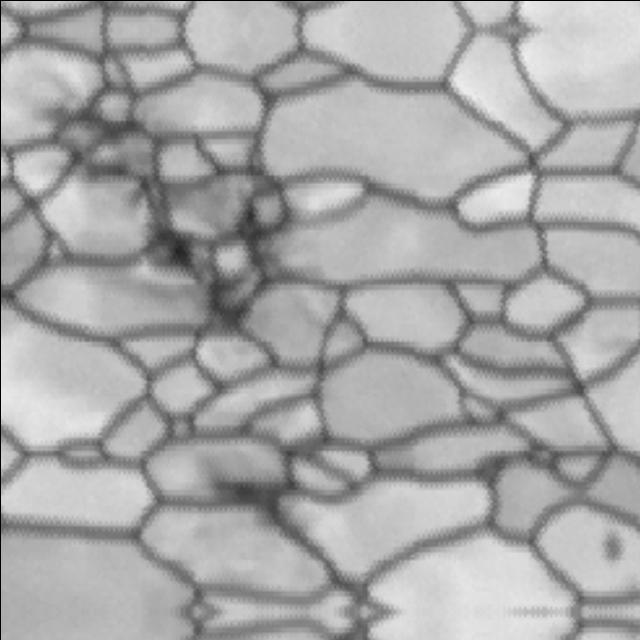good_void: (213, 457, 304, 542), (131, 220, 206, 278), (583, 520, 636, 573)
